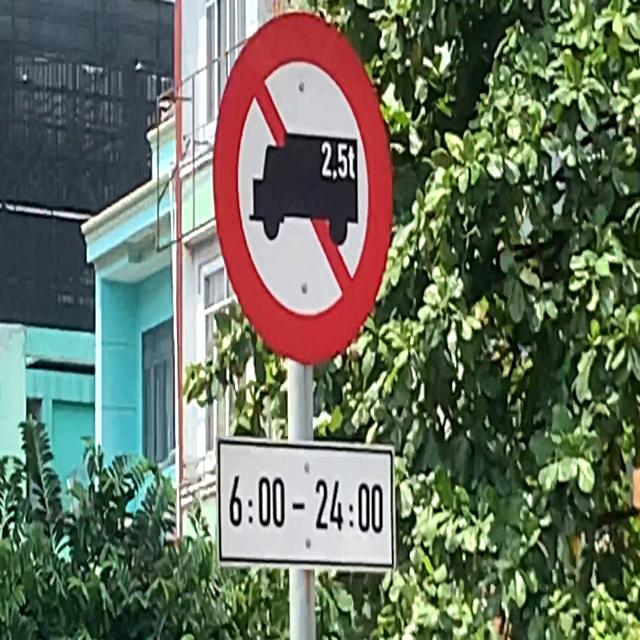P.106b: (209, 3, 398, 380)
